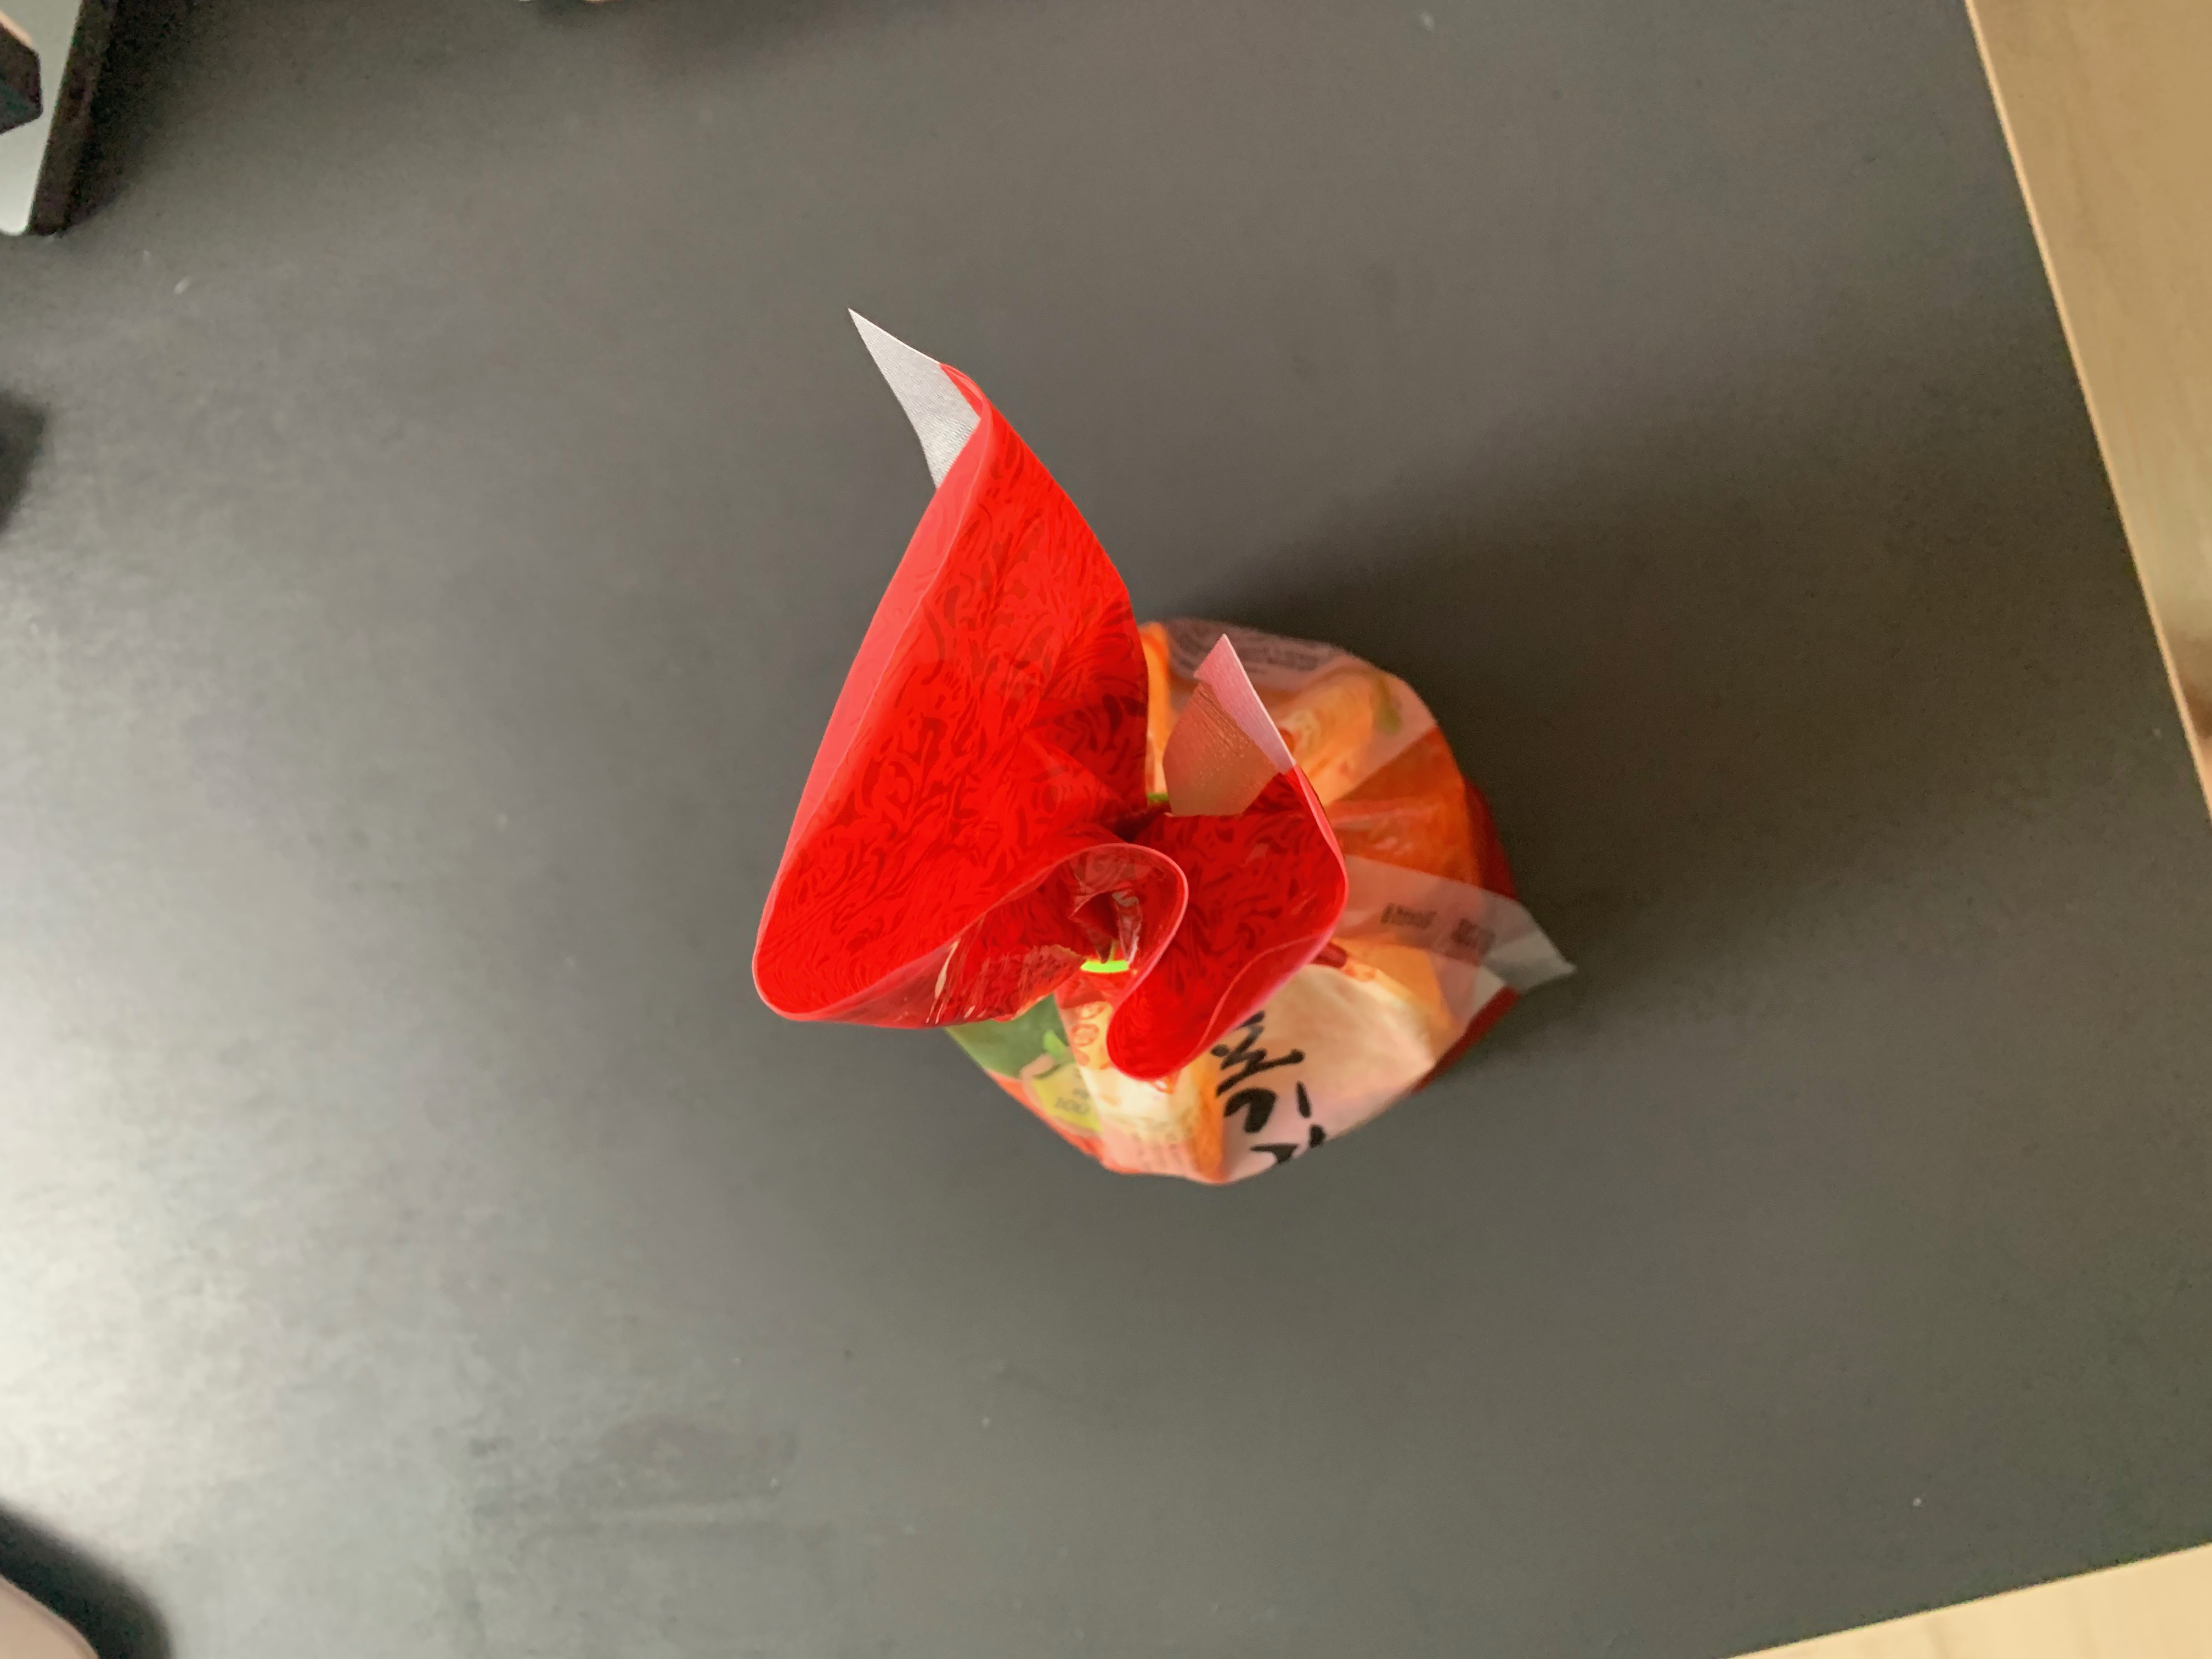kimchi: (751, 406, 1526, 1180)
